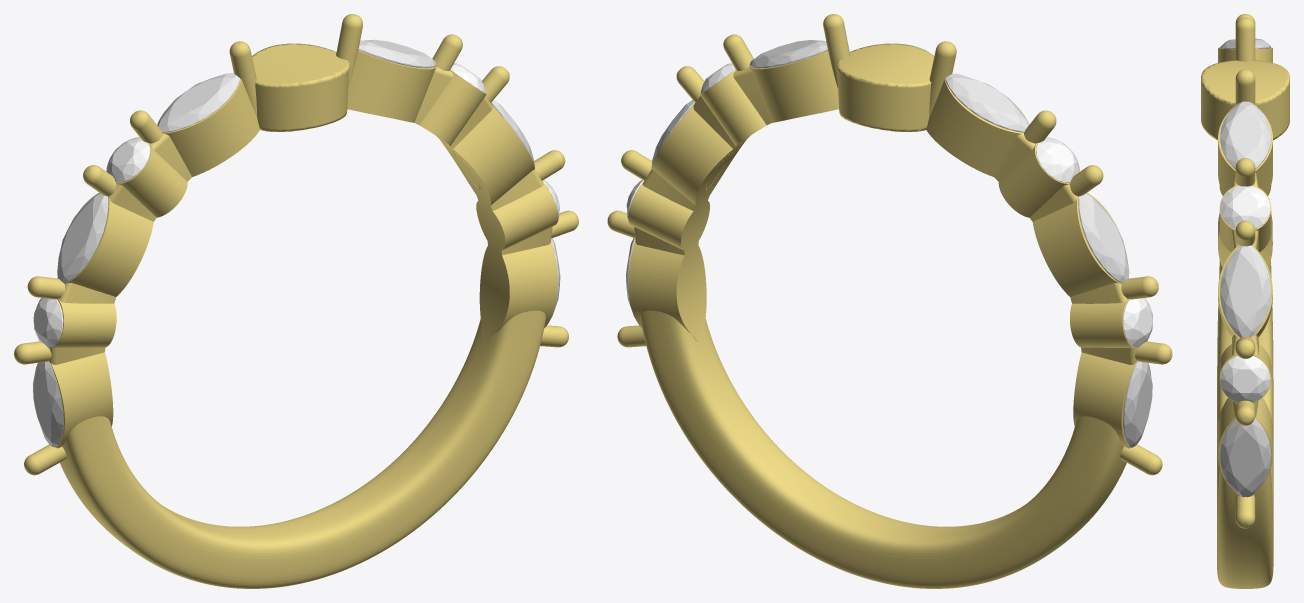
File: JUL_MA_02_SHANK.glb
3 views of the same model, side by side, from view 1: azimuth 30°, elevation 25°; view 2: azimuth 150°, elevation 25°; view 3: azimuth 270°, elevation 25° (orthographic). The views are drawn at different scales.
Parts seen in each view (by area): view 1: shank, connector, marquise.6, marquise.5, marquise.7, all-diamonds.008, marquise.2, all-diamonds.009; view 2: shank, connector, marquise.6, marquise.5, marquise.7, all-diamonds.008, marquise.2, all-diamonds.009; view 3: shank, connector, marquise.3, marquise.4, marquise.2, all-diamonds.007, all-diamonds.1217, marquise.5.
Boxes of the visible parts, x1,y1,x2,y2 form: shank: (14,14,578,588); connector: (252,43,349,131); marquise.6: (57,193,108,283); marquise.5: (157,73,240,133); marquise.7: (33,361,63,447); all-diamonds.008: (107,138,150,182); marquise.2: (358,39,436,68); all-diamonds.009: (33,298,63,347); shank: (607,14,1172,588); connector: (836,43,934,131); marquise.6: (1078,193,1129,283); marquise.5: (945,73,1028,132); marquise.7: (1123,361,1152,447); all-diamonds.008: (1036,138,1079,182); marquise.2: (749,40,827,68); all-diamonds.009: (1123,298,1152,347); shank: (1217,14,1273,588); connector: (1201,60,1289,140); marquise.3: (1220,245,1271,337); marquise.4: (1220,418,1271,497); marquise.2: (1220,101,1271,169); all-diamonds.007: (1220,356,1270,402); all-diamonds.1217: (1220,186,1270,228); marquise.5: (1220,38,1270,48).
Size of the model in its own units: 23.83 by 22.2 by 3.44.
